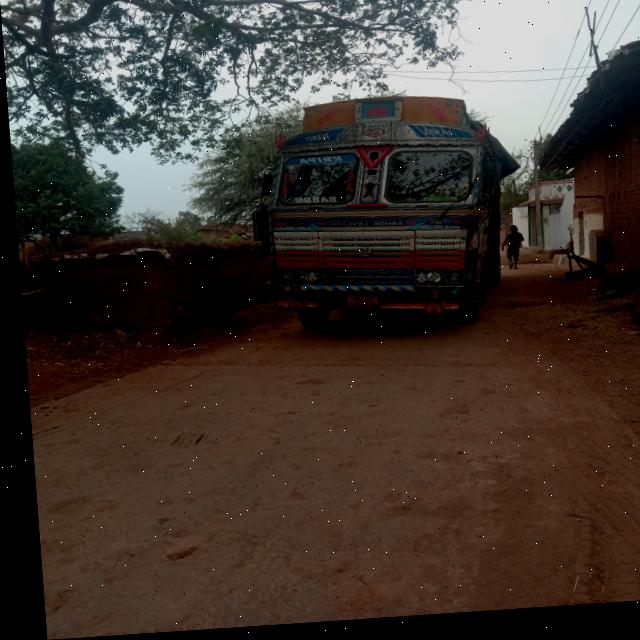plate: (341, 299, 376, 315)
